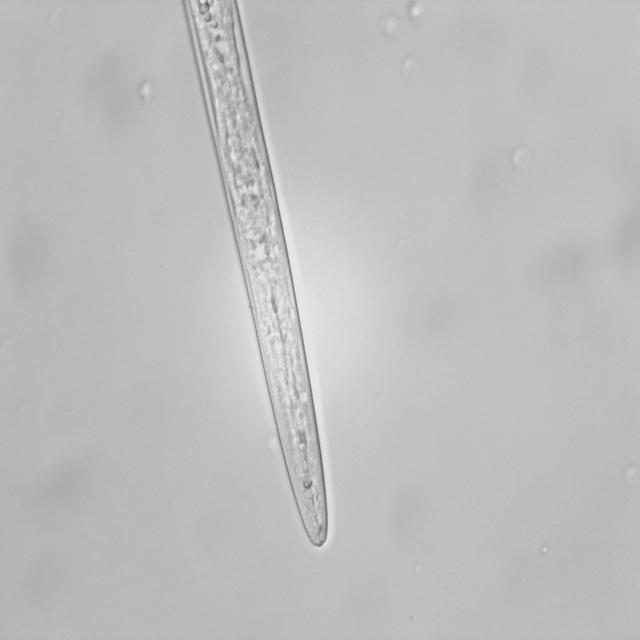Meloidogyne: (170, 0, 330, 568)
